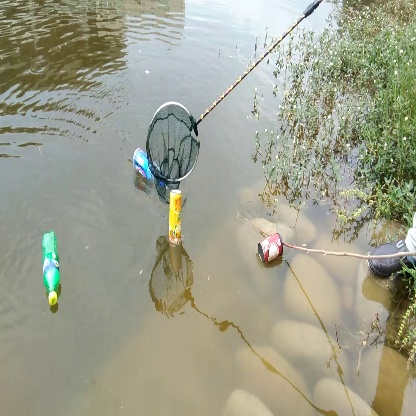bottle: (37, 227, 68, 309), (161, 187, 190, 248), (252, 230, 288, 267)
